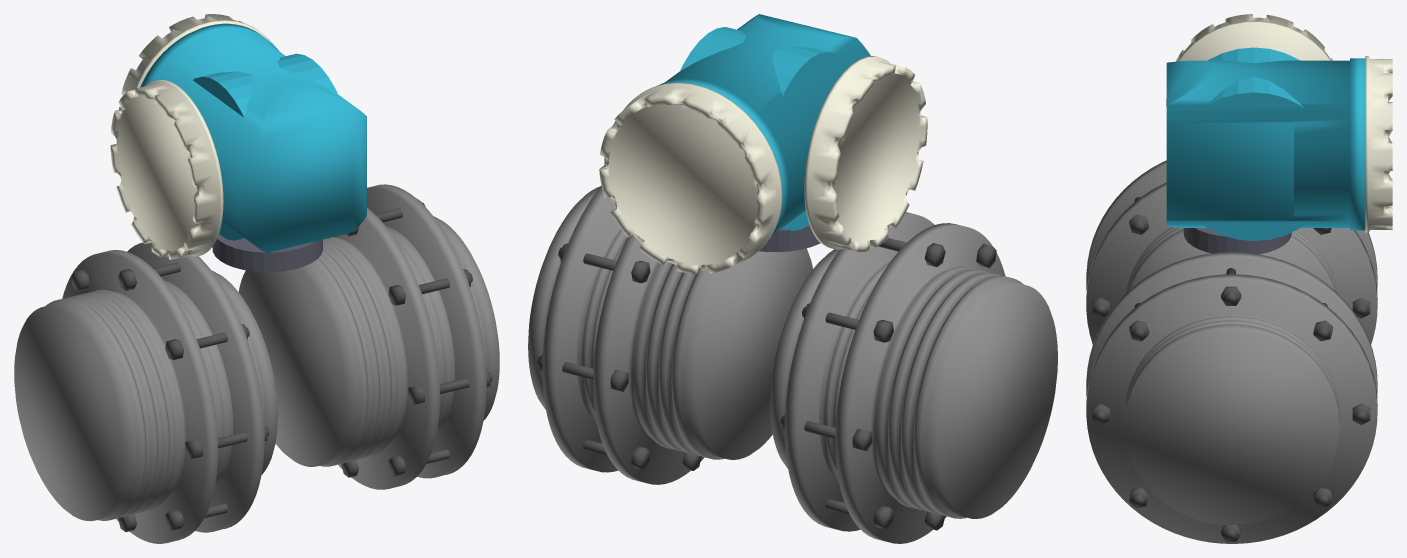
The model's file is diaphragm-pump.glb.
3 renders of one model, left to right at view 1: azimuth 30°, elevation 25°; view 2: azimuth 150°, elevation 25°; view 3: azimuth 270°, elevation 25°, orthographic. The views are drawn at different scales.
Visible parts, largest first — view 1: Obj3d66-1060089-2928-730, Obj3d66-1060089-2929-679, Obj3d66-1060089-2925-355, Obj3d66-1060089-2922-422, Obj3d66-1060089-2930-277, Obj3d66-1060089-2924-632, Obj3d66-1060089-2926-391, Obj3d66-1060089-2931-819, Obj3d66-1060089-2923-513; view 2: Obj3d66-1060089-2928-730, Obj3d66-1060089-2929-679, Obj3d66-1060089-2923-513, Obj3d66-1060089-2922-422, Obj3d66-1060089-2925-355, Obj3d66-1060089-2930-277, Obj3d66-1060089-2924-632, Obj3d66-1060089-2931-819, Obj3d66-1060089-2926-391; view 3: Obj3d66-1060089-2929-679, Obj3d66-1060089-2925-355, Obj3d66-1060089-2928-730, Obj3d66-1060089-2923-513, Obj3d66-1060089-2922-422, Obj3d66-1060089-2924-632, Obj3d66-1060089-2931-819, Obj3d66-1060089-2926-391, Obj3d66-1060089-2930-277.
Part boxes in pixels (x1,y1,x2,y2): Obj3d66-1060089-2928-730: (14,242,277,543); Obj3d66-1060089-2929-679: (238,184,499,489); Obj3d66-1060089-2925-355: (140,23,366,253); Obj3d66-1060089-2922-422: (110,80,223,259); Obj3d66-1060089-2930-277: (71,262,269,531); Obj3d66-1060089-2924-632: (193,53,337,240); Obj3d66-1060089-2926-391: (212,234,322,272); Obj3d66-1060089-2931-819: (341,199,492,477); Obj3d66-1060089-2923-513: (119,14,274,109); Obj3d66-1060089-2928-730: (770,212,1057,543); Obj3d66-1060089-2929-679: (528,185,812,484); Obj3d66-1060089-2923-513: (599,82,782,274); Obj3d66-1060089-2922-422: (804,56,927,251); Obj3d66-1060089-2925-355: (659,14,870,237); Obj3d66-1060089-2930-277: (780,238,996,530); Obj3d66-1060089-2924-632: (680,27,838,230); Obj3d66-1060089-2931-819: (537,243,701,470); Obj3d66-1060089-2926-391: (759,224,820,252); Obj3d66-1060089-2929-679: (1086,252,1377,543); Obj3d66-1060089-2925-355: (1166,58,1365,230); Obj3d66-1060089-2928-730: (1086,160,1377,344); Obj3d66-1060089-2923-513: (1365,56,1392,232); Obj3d66-1060089-2922-422: (1166,14,1332,106); Obj3d66-1060089-2924-632: (1204,47,1303,240); Obj3d66-1060089-2931-819: (1092,268,1370,541); Obj3d66-1060089-2926-391: (1183,228,1291,254); Obj3d66-1060089-2930-277: (1092,197,1370,318).
Size of the model in its own units: 3623 by 3912 by 2614.
